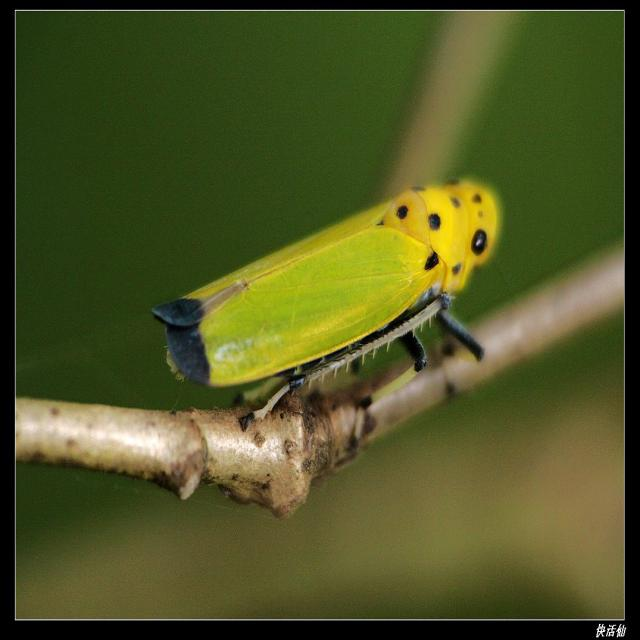Yechan: (151, 162, 509, 396)
